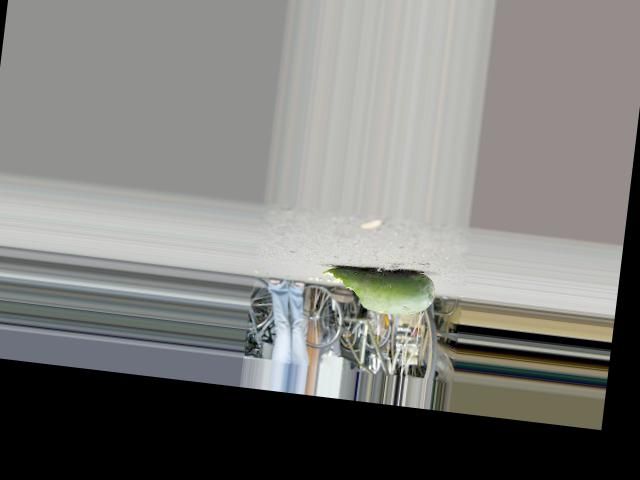cucumber: (317, 261, 436, 318)
